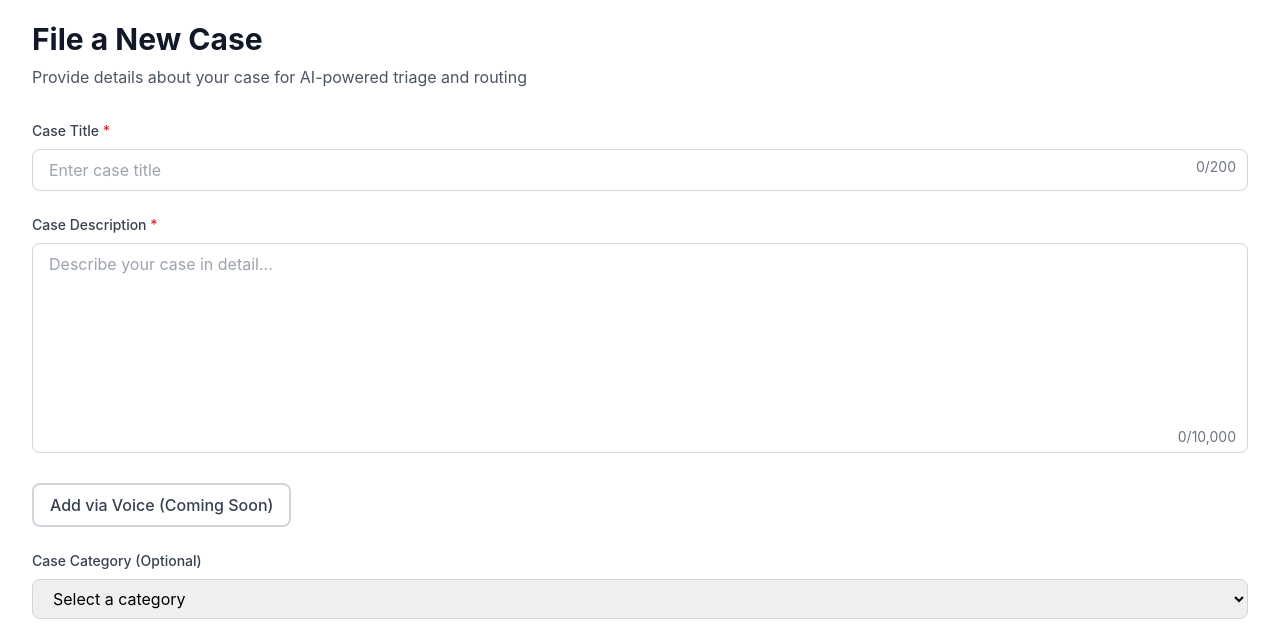
CaseForm › should successfully submit form with valid data
Step 1. Type "Test Case" into the field with placeholder "Enter case title" → [640, 170], box [32,149,1248,191]
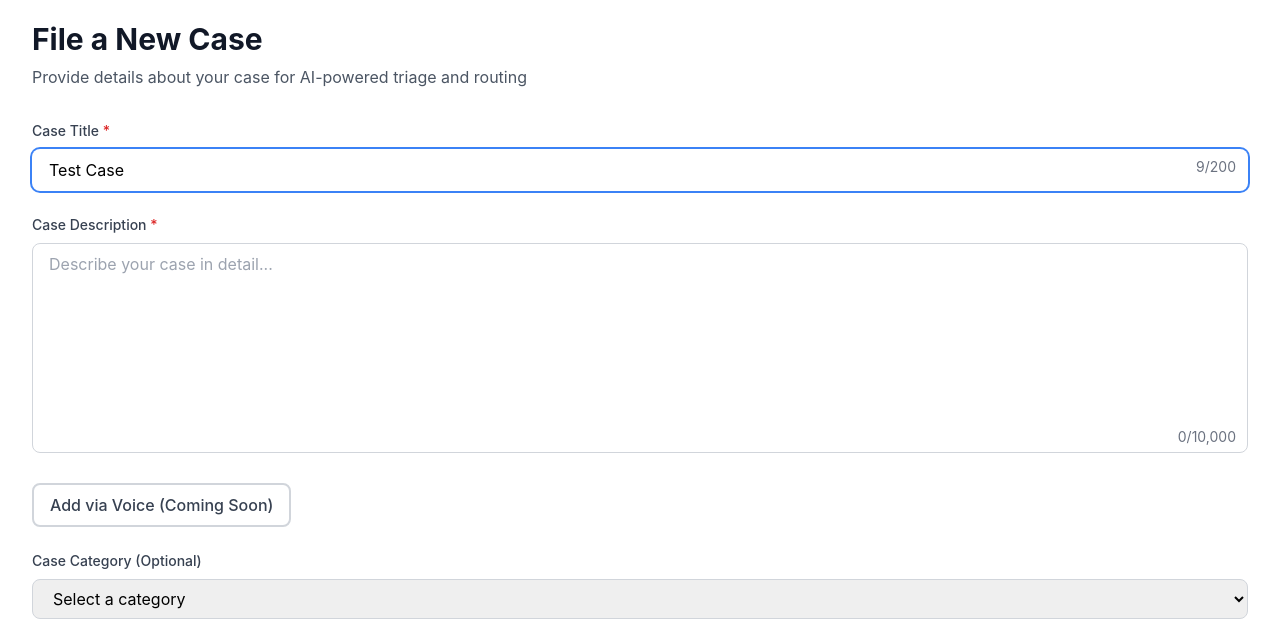
Step 2. Type "Test Description" into the text box with placeholder "Describe your case in detail..." → [640, 348], box [32,243,1248,453]
(page scrolled)
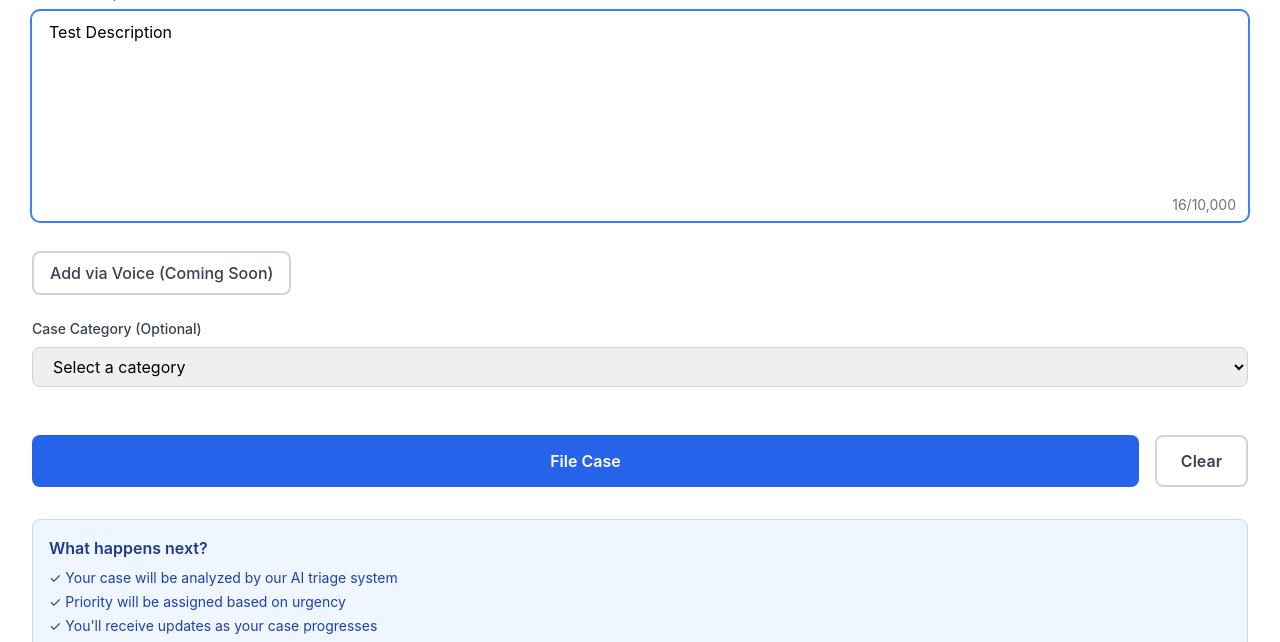
Step 3. Click the button "File Case" → [585, 461], box [32,435,1139,487]
(page scrolled)
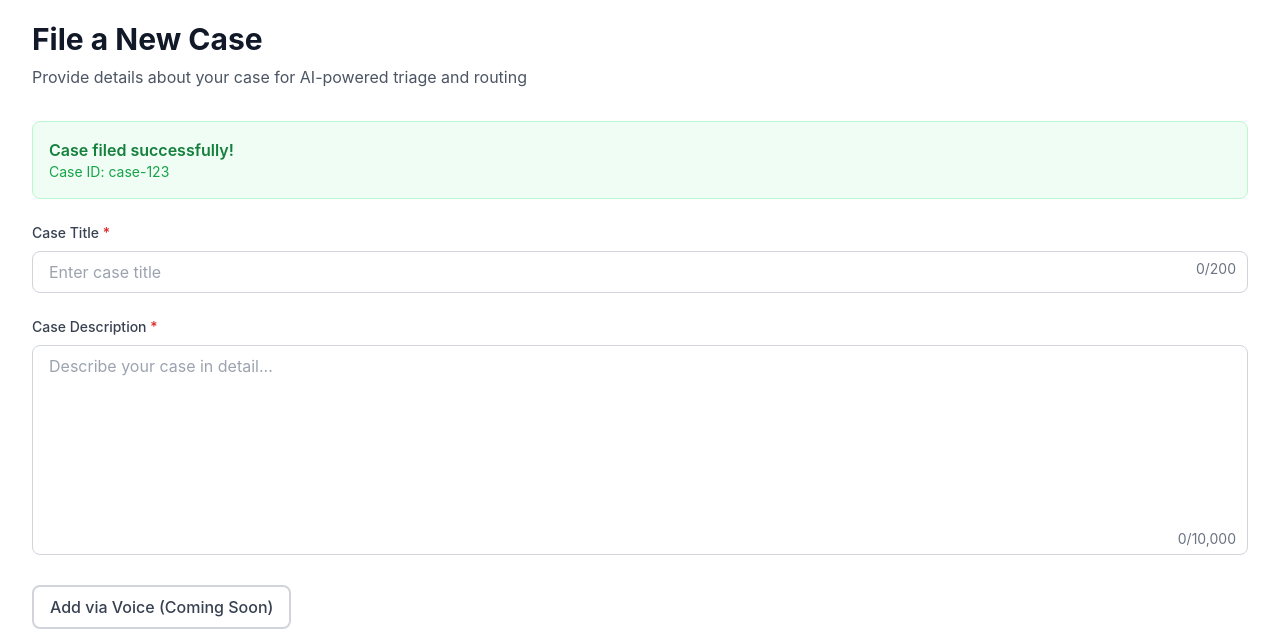
Result: the text "Case filed successfully!" is shown at [49,138,234,162]
Result: the text "Case ID: case-123" is shown at [49,163,169,180]
